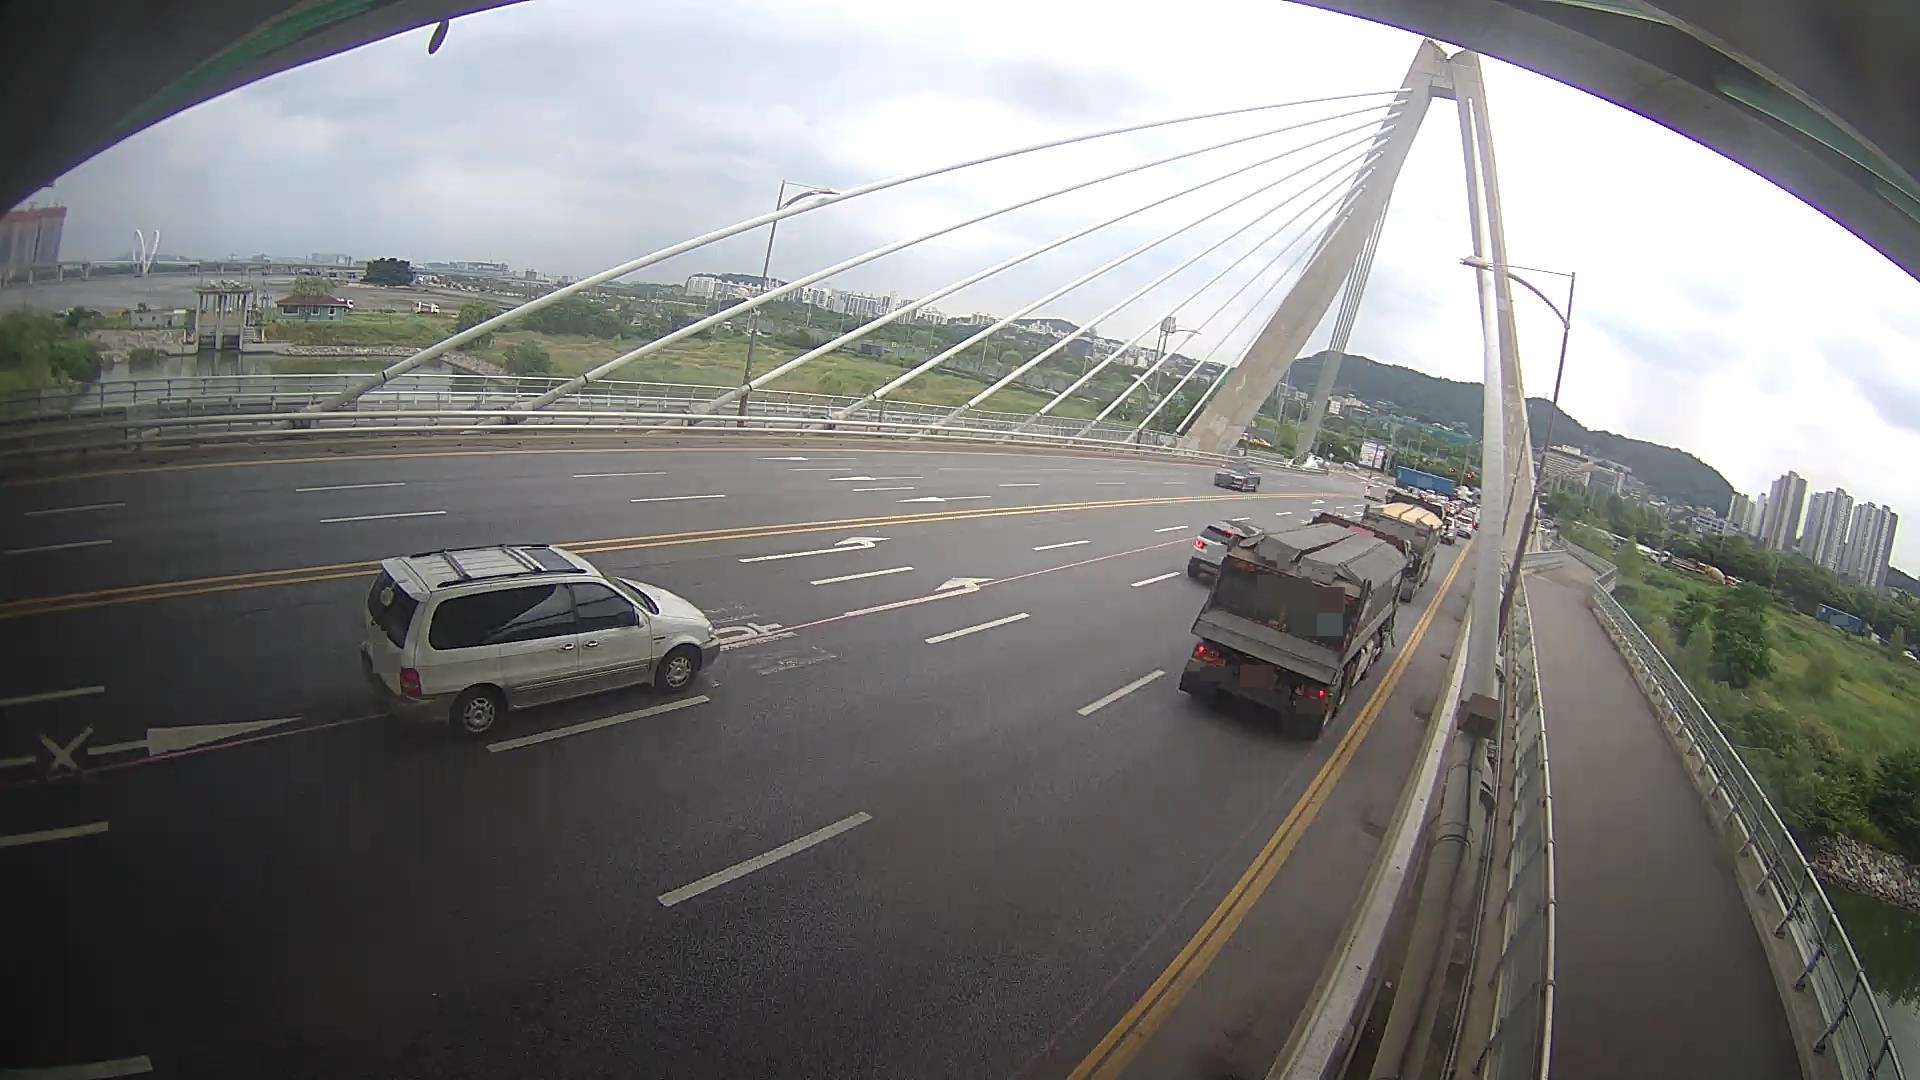정상차량: (1179, 512, 1422, 740)
